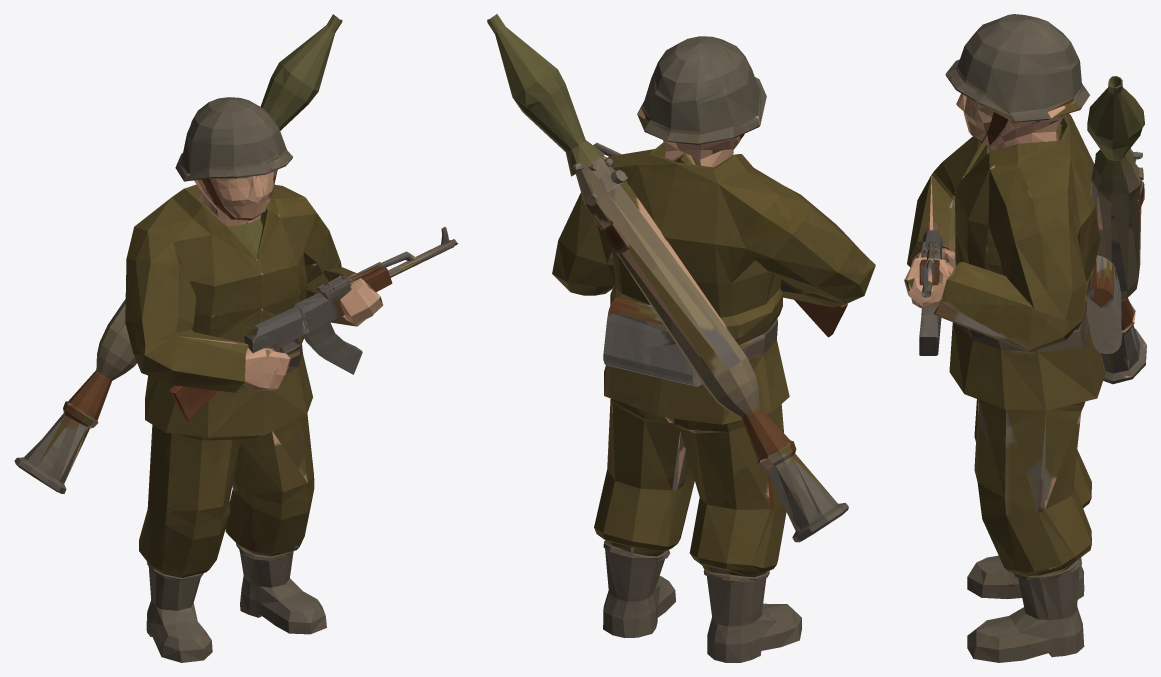
File: golan73_syrian_inf_0.glb
The picture shows the model from 3 angles, left to right: view 1: azimuth 30°, elevation 25°; view 2: azimuth 150°, elevation 25°; view 3: azimuth 270°, elevation 25°; orthographic projection. The views are drawn at different scales.
Visible parts, largest first — view 1: geometry_0; view 2: geometry_0; view 3: geometry_0.
Boxes of the visible parts, x1=… form: geometry_0: x1=14, y1=14, x2=458, y2=662; geometry_0: x1=487, y1=14, x2=875, y2=662; geometry_0: x1=904, y1=14, x2=1146, y2=662.
Bounding box in the file's own units: 0.2188 × 0.324 × 0.1146.
Materials: 1 (1 with a texture image).
